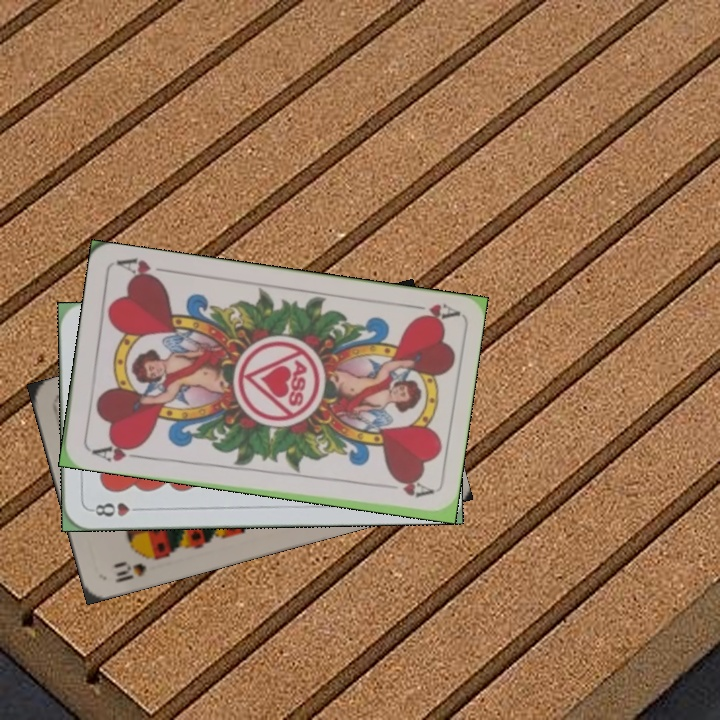H8: (87, 499, 146, 520)
HA: (86, 438, 145, 464), (400, 299, 459, 325)
S10: (109, 550, 161, 586)
